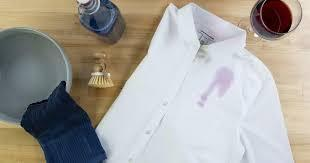oil: (210, 63, 238, 100), (193, 85, 210, 109)
